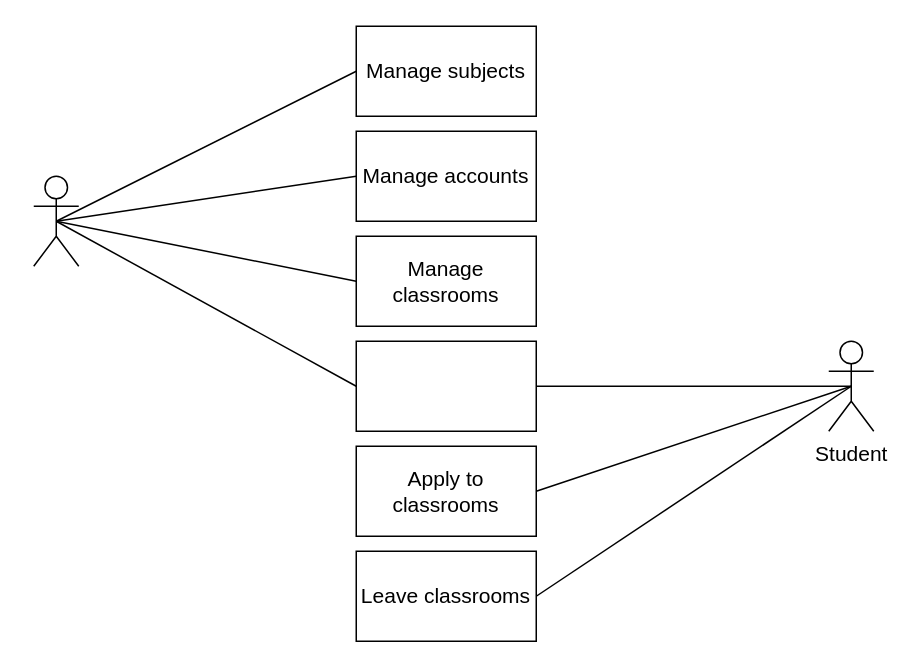
This 914x668 diagram has some shape labels left out. The shapes that lost their labels are listed below. From the top down, each one's box as (x1, y1, x2, y2) in pixels, then its label:
(32, 175, 79, 266): Admin
(355, 340, 536, 431): Authorize
